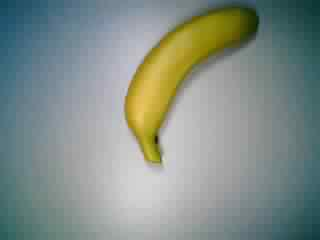banana: (121, 7, 266, 170)
